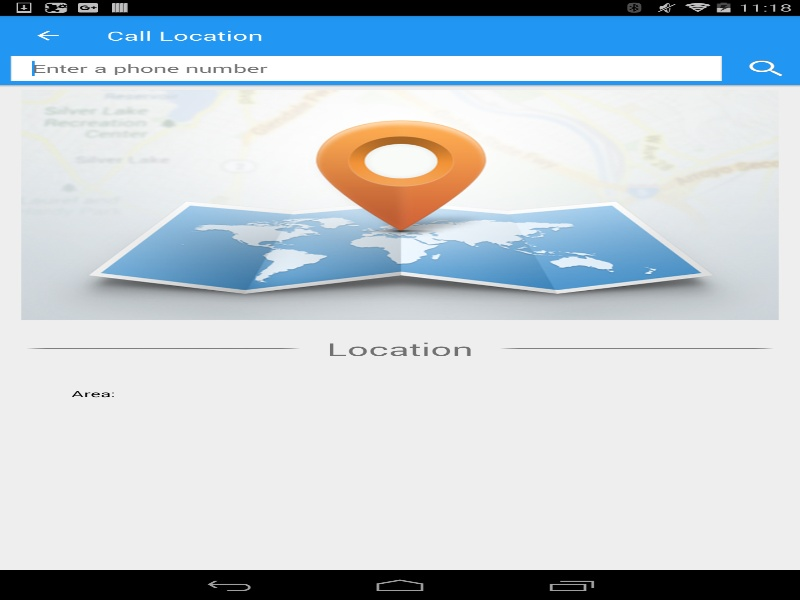Button: (10, 15, 85, 55), (732, 57, 789, 79)
Input: (10, 55, 722, 81)
